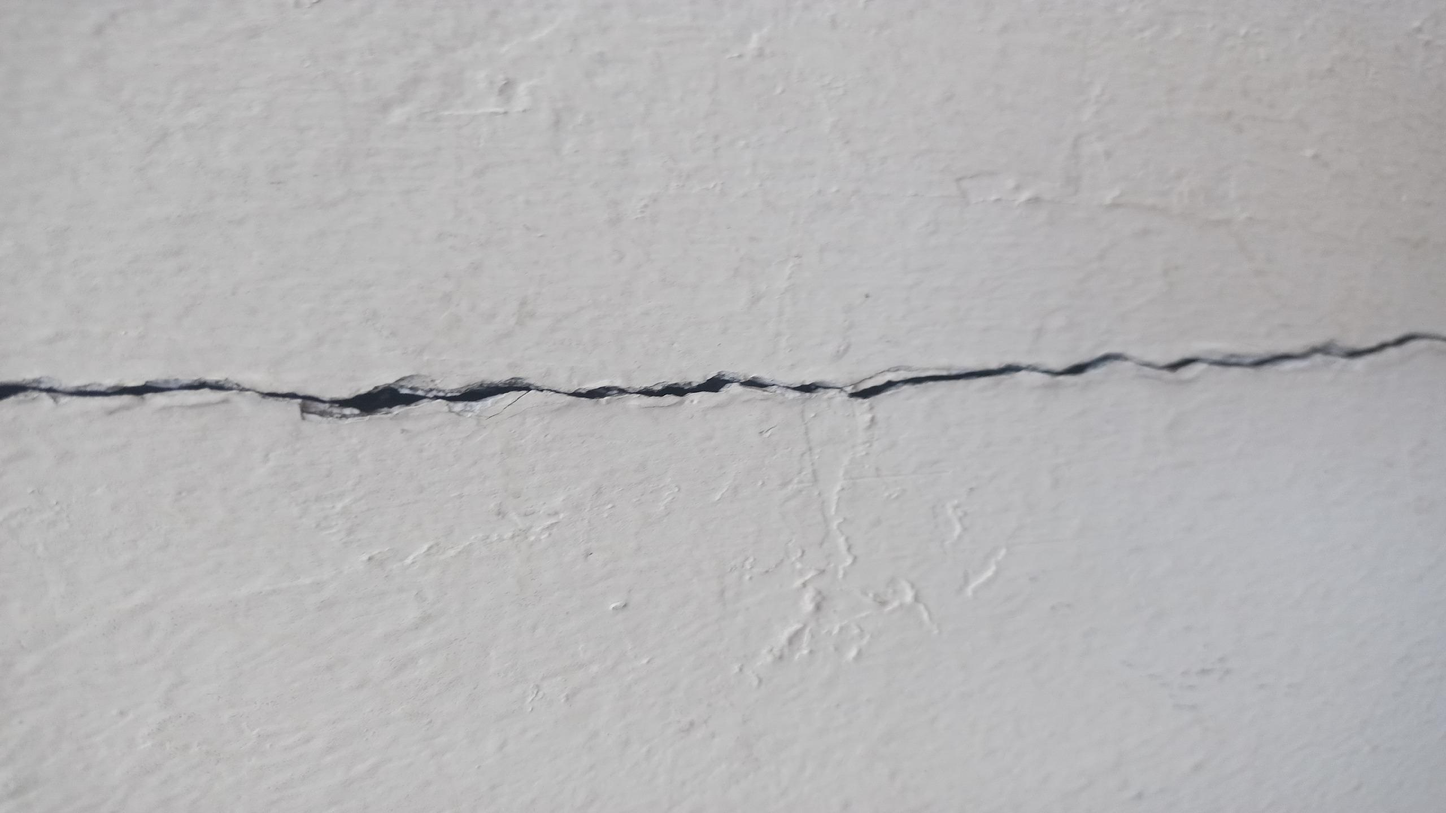crack: (1, 335, 1442, 412)
